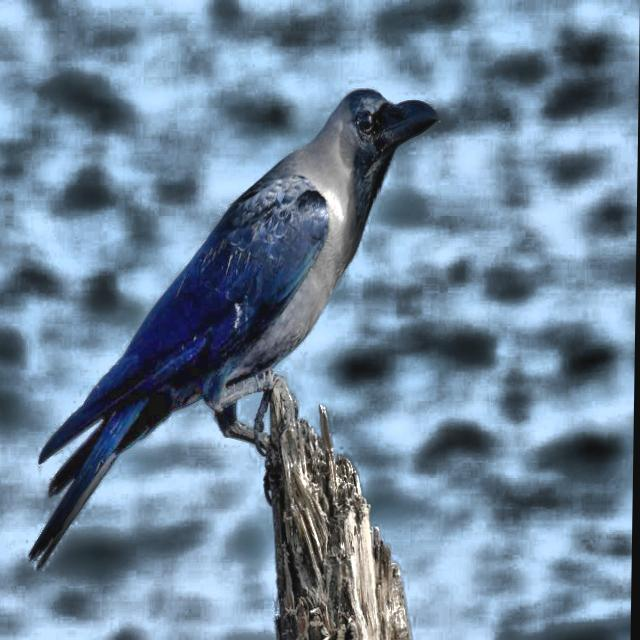crow: (16, 75, 451, 573)
